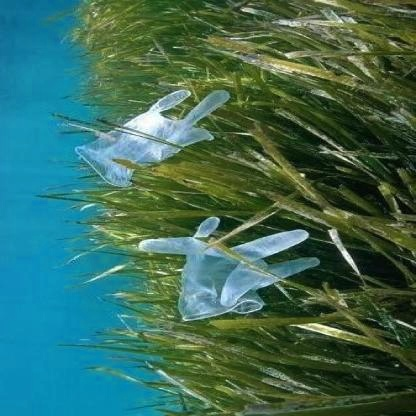glove: (101, 215, 352, 318), (73, 86, 238, 188)
